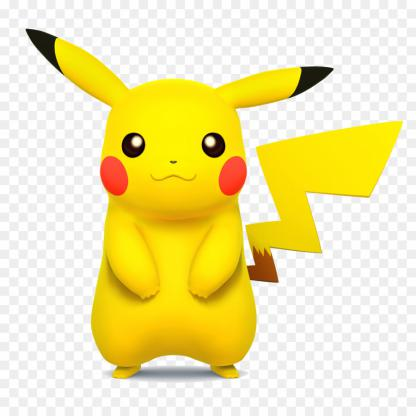Pikachu: (17, 11, 408, 393)
